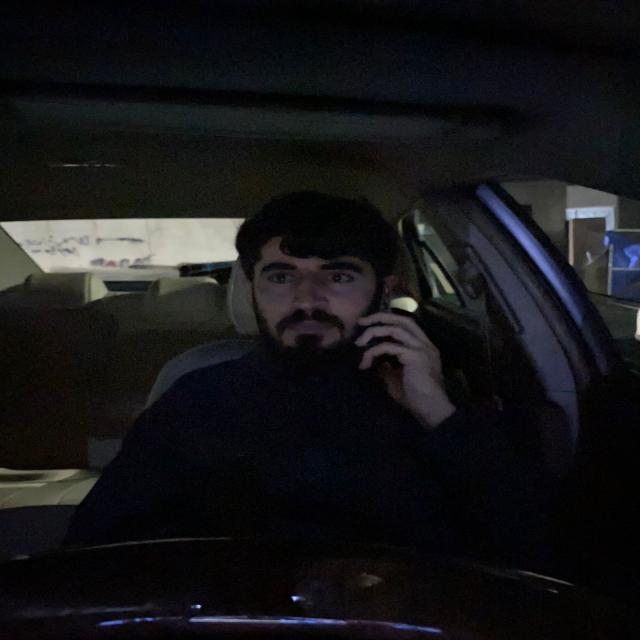mobile: (361, 295, 408, 387)
person: (234, 202, 376, 366)
